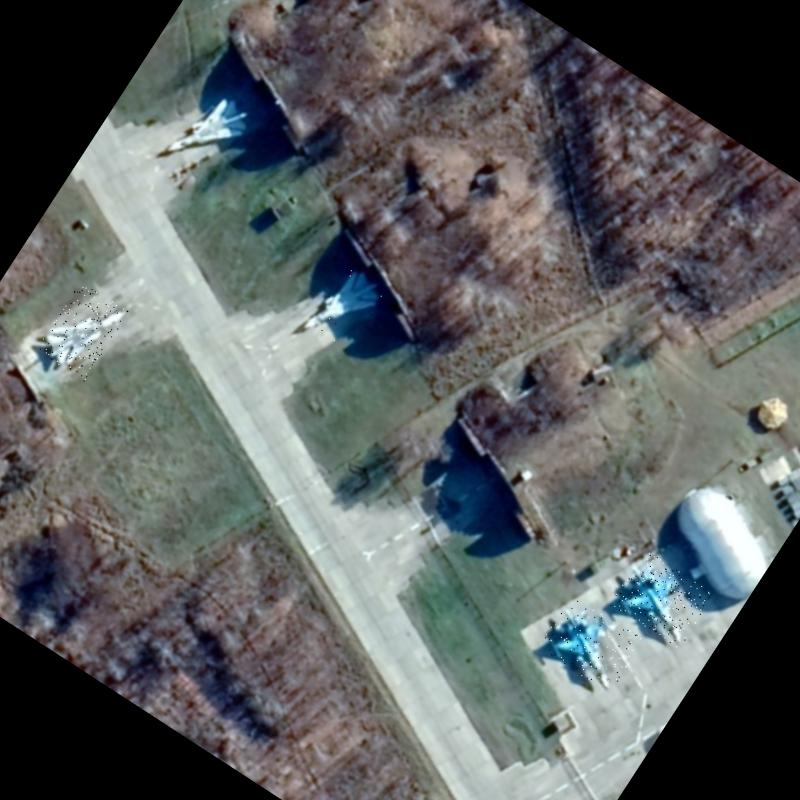A19: (536, 594, 644, 696), (608, 549, 714, 650)
A20: (163, 80, 261, 184), (35, 281, 129, 382), (298, 257, 390, 357)
